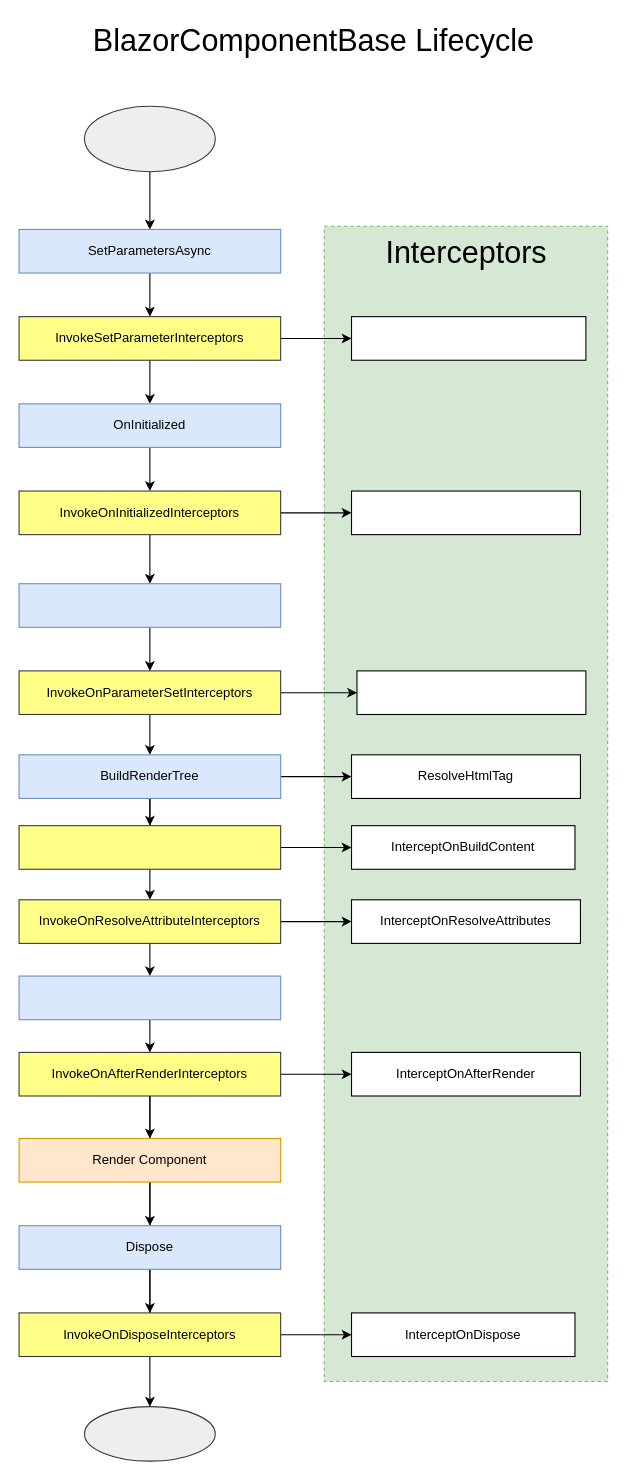
Image size: 627x1480. Some labels were removed from this diagram. The shapes that lost their labels are listed below. From the top down, each one's centre as x and y in pixels, then its label:
the point at 149,138: Start
the point at 468,338: InterceptOnSetParameters
the point at 465,512: InterceptOnInitialized
the point at 149,605: OnParameterSet
the point at 471,692: InterceptOnParameterSet
the point at 149,847: InvokeOnBuildContentInterceptors
the point at 149,997: OnAfterRender
the point at 149,1433: End
